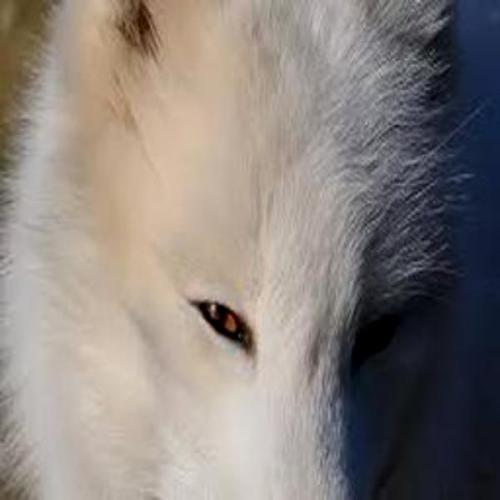arctic_fox-endangered: (24, 26, 468, 497)
